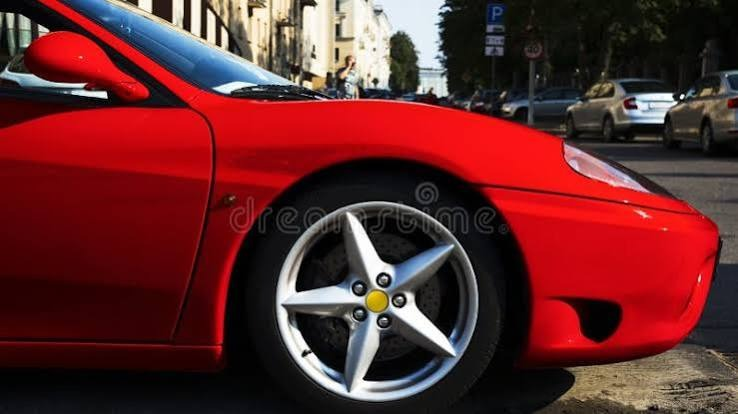car: (1, 8, 738, 407), (1, 11, 729, 408), (570, 78, 663, 142), (670, 72, 738, 156), (671, 72, 738, 155), (565, 81, 632, 141), (616, 80, 679, 141), (515, 93, 579, 132), (522, 85, 586, 124)
